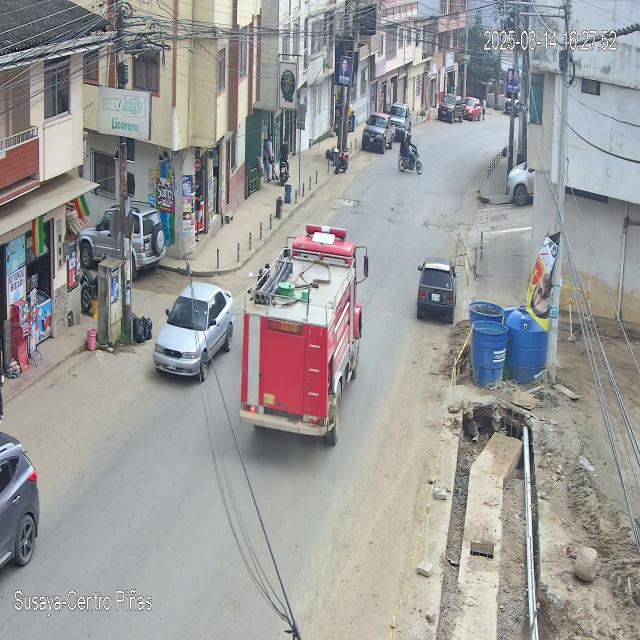TRUCK: (240, 225, 366, 446)
